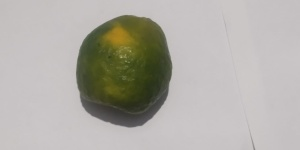BAD: (72, 15, 178, 116)
